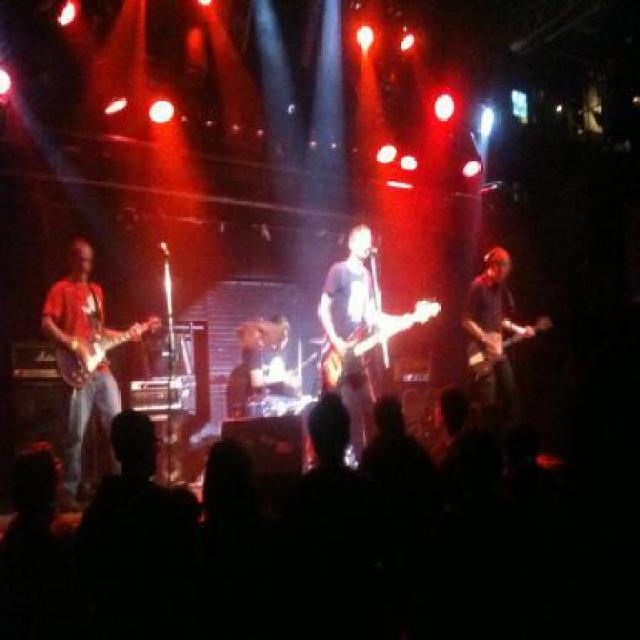Person: (0, 384, 638, 638), (37, 238, 146, 498), (318, 224, 412, 468), (469, 228, 540, 448), (227, 348, 258, 414)
